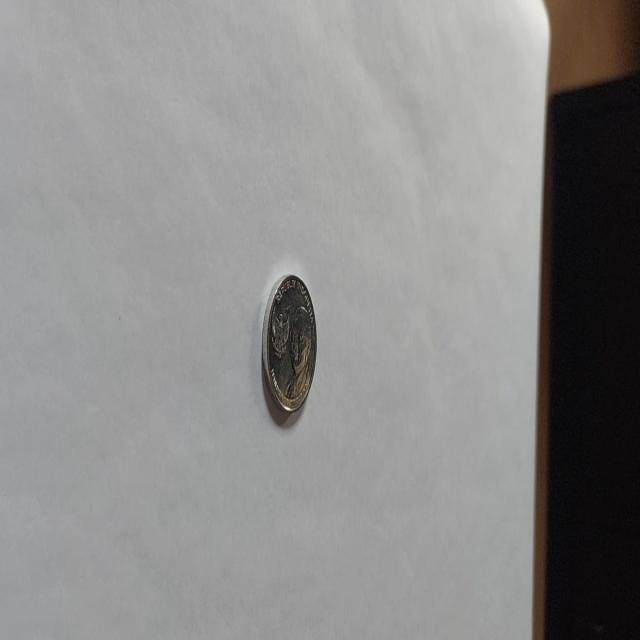lima ratus rupiah: (260, 272, 318, 417)
